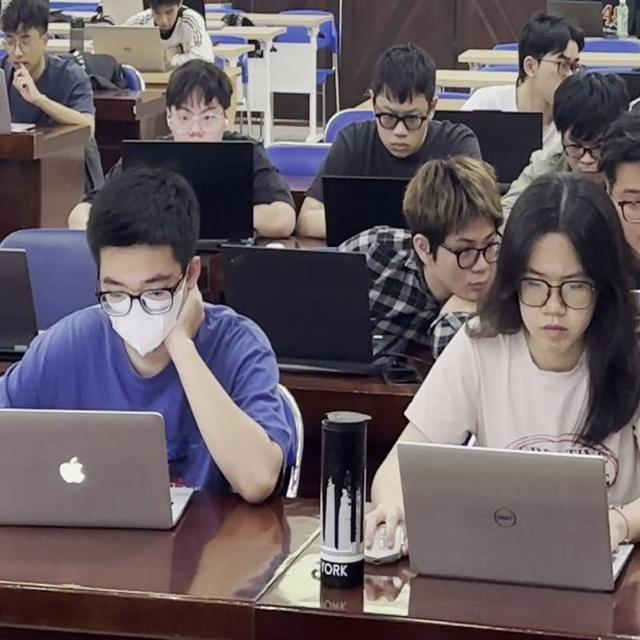Looking away: (494, 167, 633, 383), (86, 170, 211, 362), (398, 147, 501, 302), (350, 34, 448, 164), (156, 63, 238, 157), (520, 15, 585, 130), (4, 1, 57, 82)
